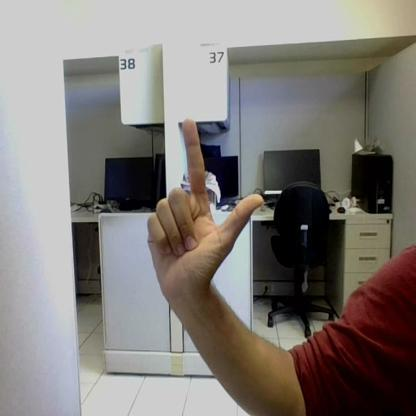L: (147, 118, 264, 292)
